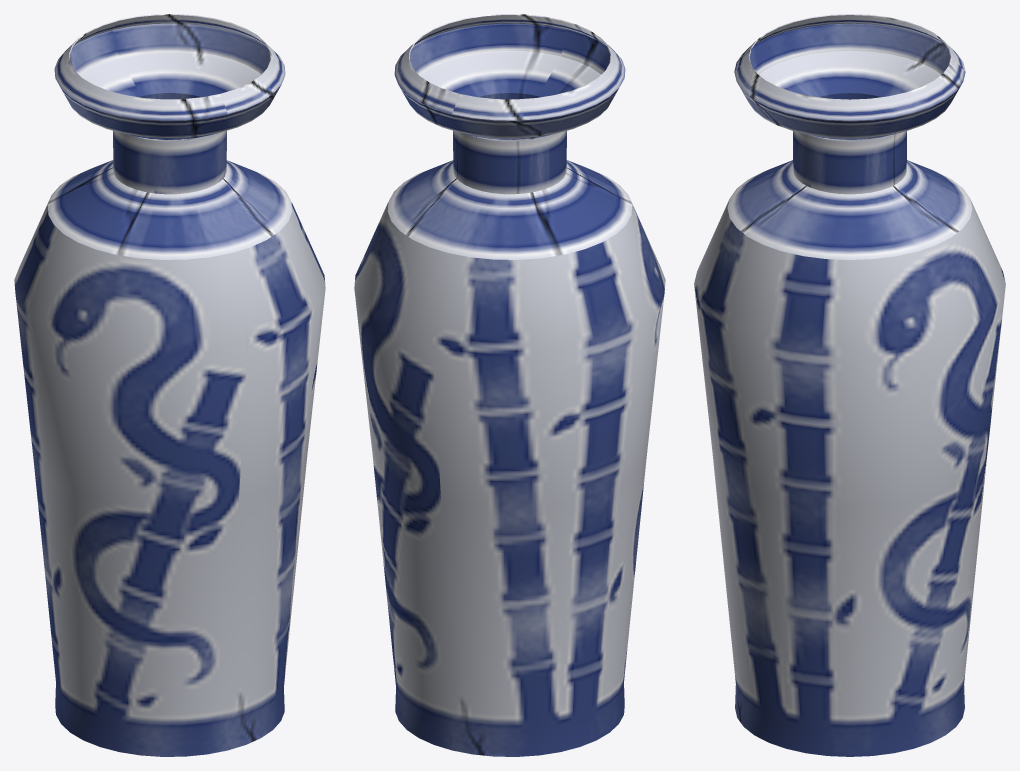
File: Vase.fbx
3 renders of one model, left to right at view 1: azimuth 30°, elevation 25°; view 2: azimuth 150°, elevation 25°; view 3: azimuth 270°, elevation 25°, orthographic.
Parts seen in each view (by area): view 1: Vase; view 2: Vase; view 3: Vase.
Part boxes in pixels (bbox=[...]): Vase: bbox=[14, 14, 325, 756]; Vase: bbox=[354, 14, 665, 756]; Vase: bbox=[694, 14, 1005, 756].
Size of the model in its own units: 1.3 by 3 by 1.3.
